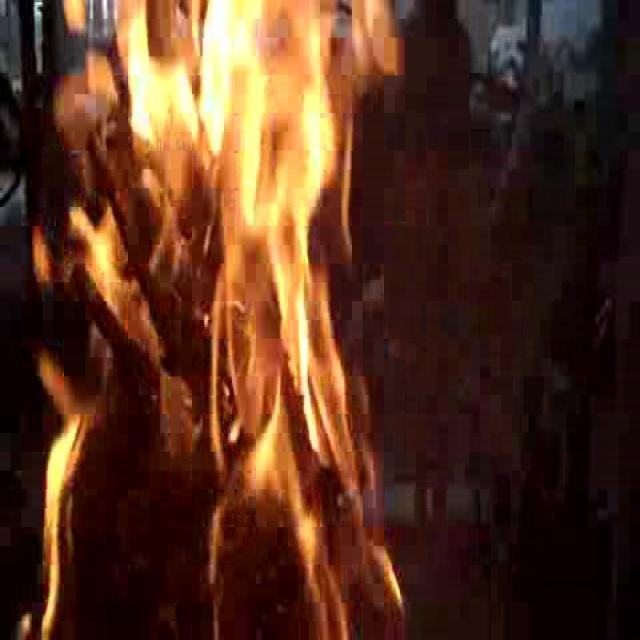fire: (32, 5, 376, 620)
